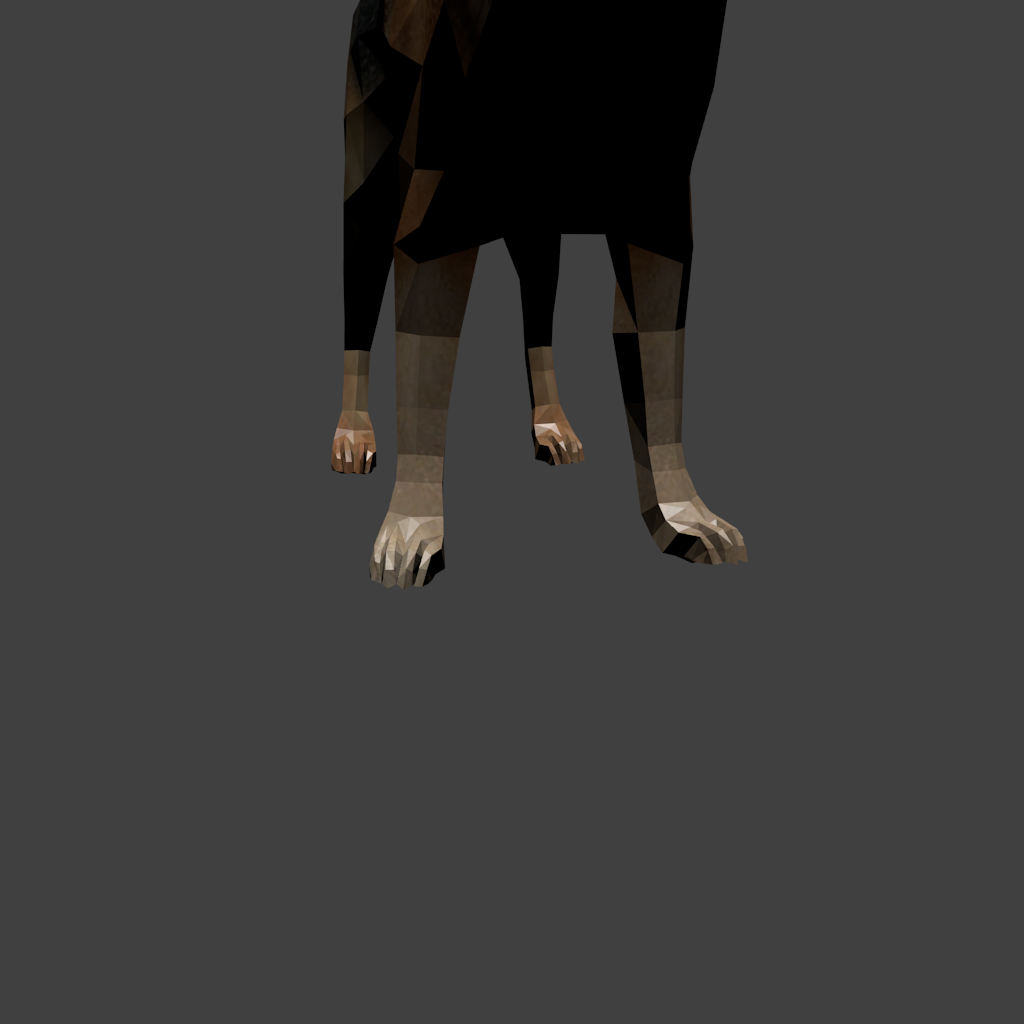Dog: (331, 0, 536, 590)
